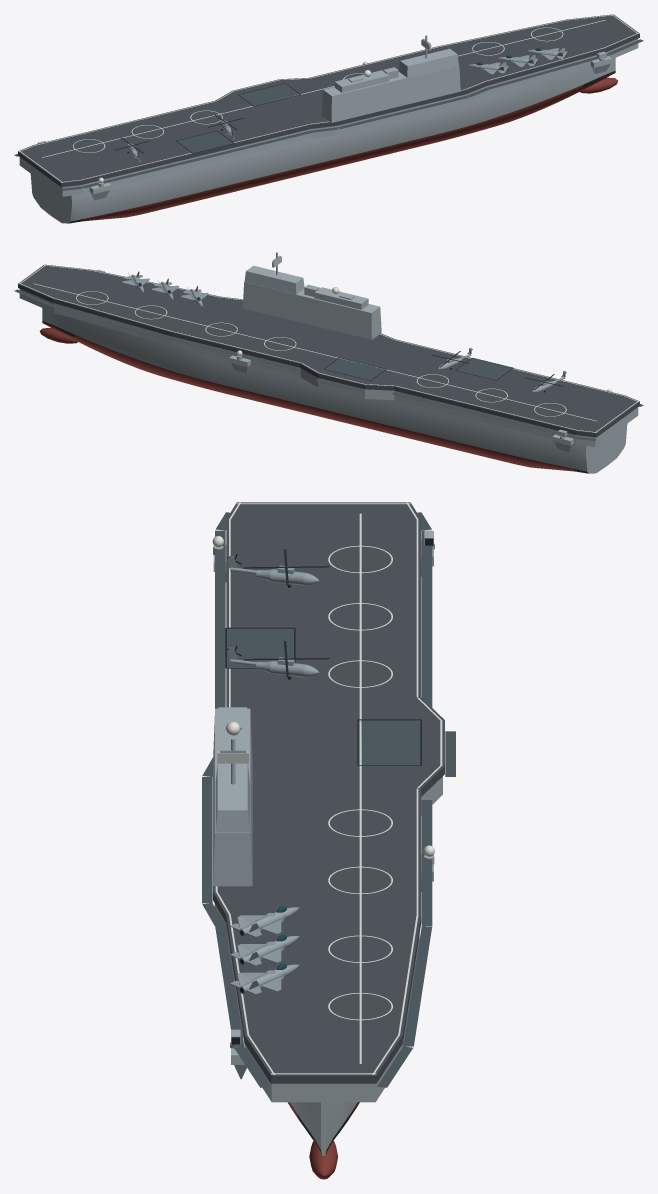
File: usn_lha_america.glb
The picture shows the model from 3 angles, top to bottom: view 1: azimuth 30°, elevation 25°; view 2: azimuth 150°, elevation 25°; view 3: azimuth 270°, elevation 25°; orthographic projection. The views are drawn at different scales.
Visible parts, largest first — view 1: naval_paint, flight_deck, antifouling, deck_non_skid, marking_white, airframe, rubber; view 2: flight_deck, naval_paint, antifouling, deck_non_skid, marking_white, airframe, rubber; view 3: flight_deck, deck_non_skid, naval_paint, marking_white, airframe, rubber.
Boxes of the visible parts, box(x1,y1,x2,y2) form: naval_paint: box(19, 35, 638, 223); flight_deck: box(18, 14, 639, 187); antifouling: box(82, 72, 617, 221); deck_non_skid: box(14, 39, 643, 190); marking_white: box(19, 14, 638, 182); airframe: box(126, 48, 567, 162); rubber: box(114, 55, 566, 160); flight_deck: box(18, 264, 639, 437); naval_paint: box(19, 252, 638, 473); antifouling: box(40, 322, 575, 471); deck_non_skid: box(14, 289, 643, 440); marking_white: box(19, 265, 638, 432); airframe: box(122, 271, 565, 393); rubber: box(324, 348, 566, 392); flight_deck: box(213, 502, 444, 1083); deck_non_skid: box(202, 512, 455, 1087); naval_paint: box(213, 531, 442, 1156); marking_white: box(215, 502, 442, 1074); airframe: box(228, 555, 319, 994); rubber: box(225, 538, 433, 1044).
Size of the model in its own units: 10 by 1.97 by 1.87.
